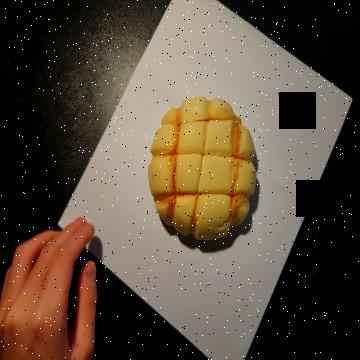melon_bread: (146, 98, 257, 240)
